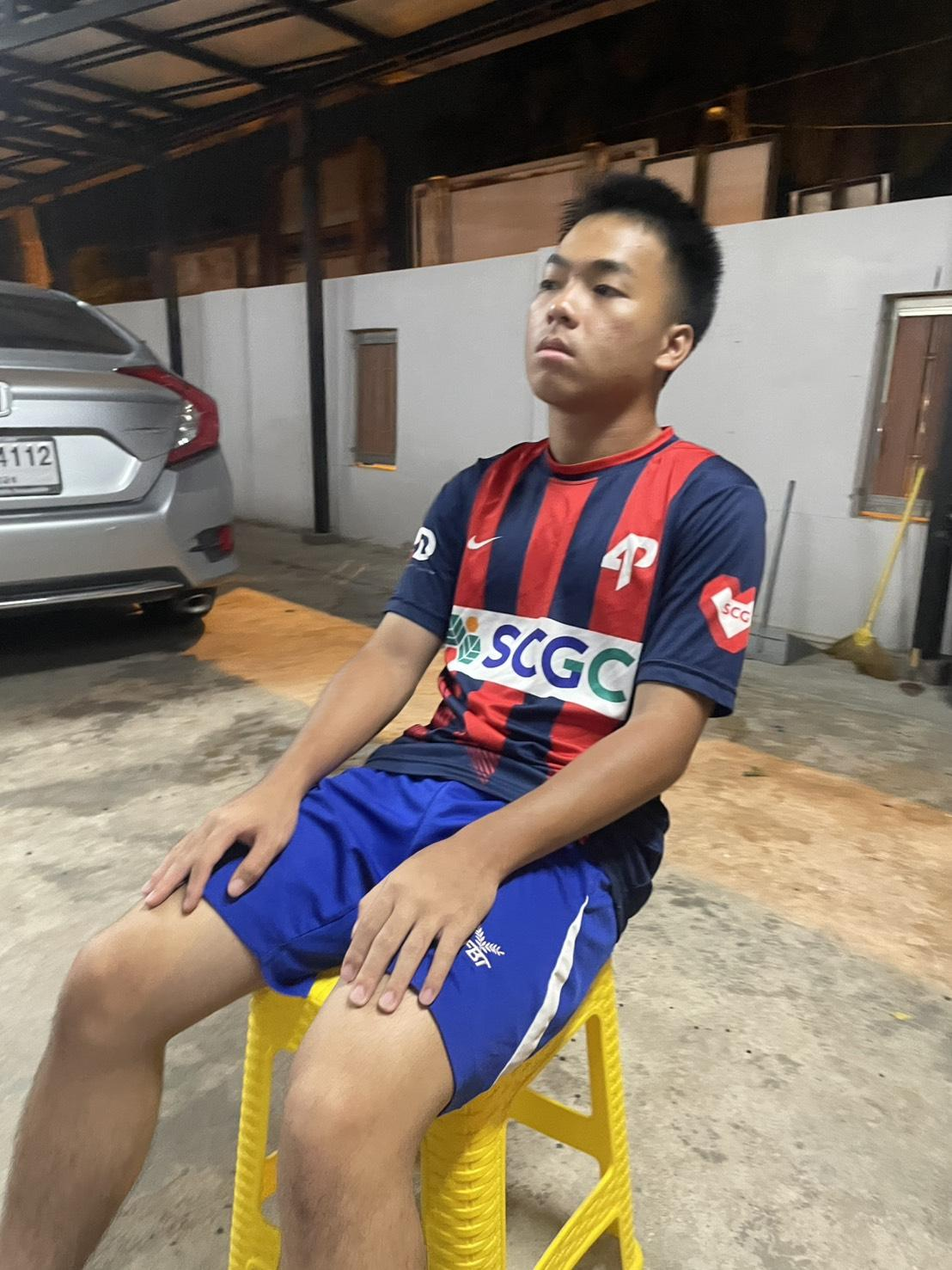BadPosture: (46, 174, 765, 1269)
